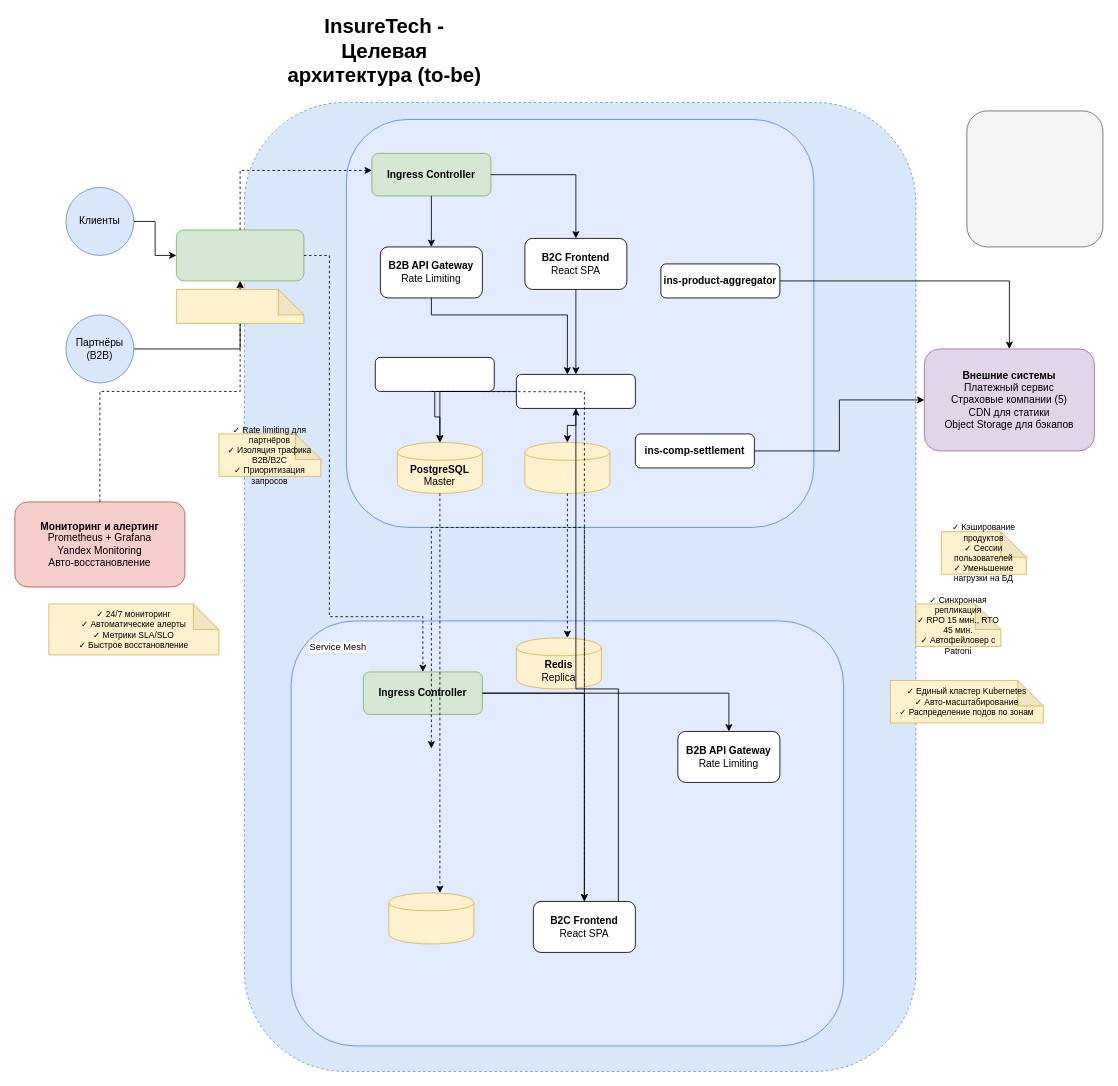
This 1118x1086 diagram has some shape labels left out. The shapes that lost their labels are listed below. From the top down, each one's box as (x1, y1, x2, y2) in pixels, then its label:
(966, 110, 1103, 247): Легенда Зона доступности Балансировщик Кэш/БД Мониторинг Внешние системы
(176, 229, 304, 281): Global Load Balancer (Yandex ALB)
(176, 289, 304, 323): ✓ Гео-балансировка ✓ Health checks ✓ Фейловер при проблемах
(346, 119, 814, 527): Зона доступности 1 (Москва)
(374, 357, 494, 391): client-info
(516, 374, 635, 408): core-app (рефакторинг)
(524, 442, 610, 493): Redis Кластер
(244, 102, 916, 1071): Kubernetes Cluster (растянутый) Managed Service for Kubernetes
(290, 620, 844, 1046): Зона доступности 2 (Санкт-Петербург)
(388, 892, 474, 944): PostgreSQL Synchronous Replica
